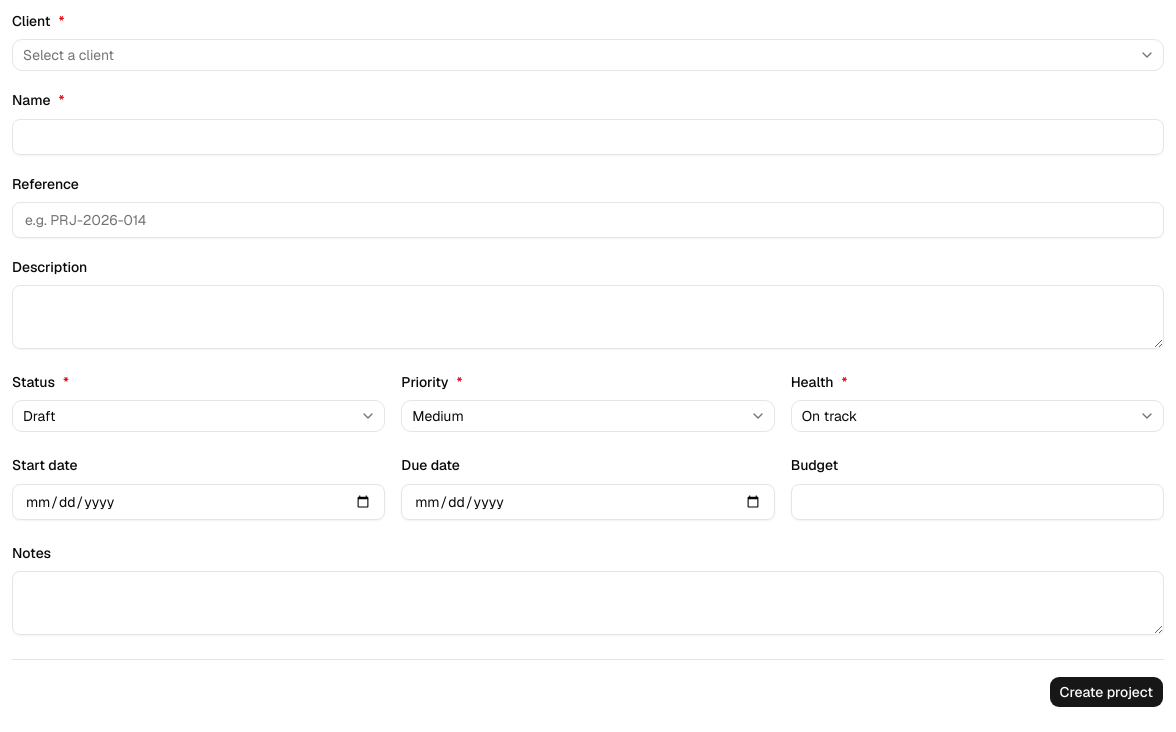
Test: ProjectForm (create mode) › maps 422 backend errors onto fields
This screenshot has width=1176, height=732.
Step 1. Click the dropdown labelled "Select a client ▼" → (68,55), box [12,39,1164,71]
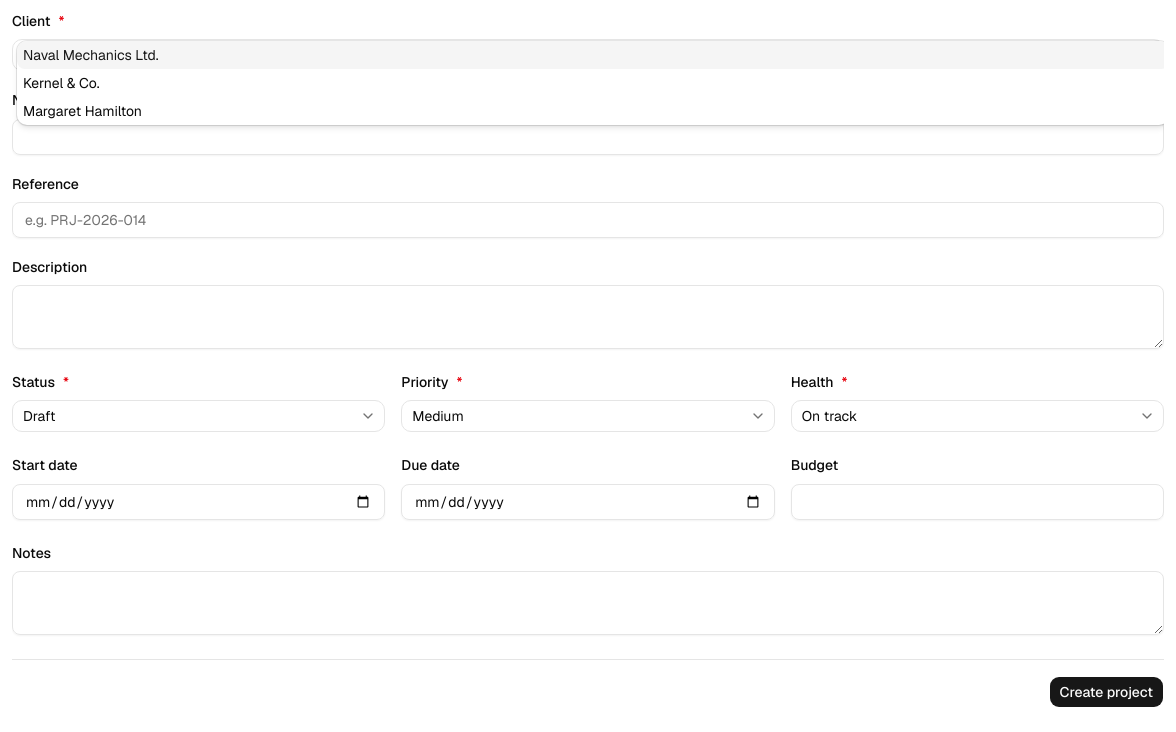
Step 2. Click the option "Naval Mechanics Ltd." → (91,55), box [17,41,1164,69]
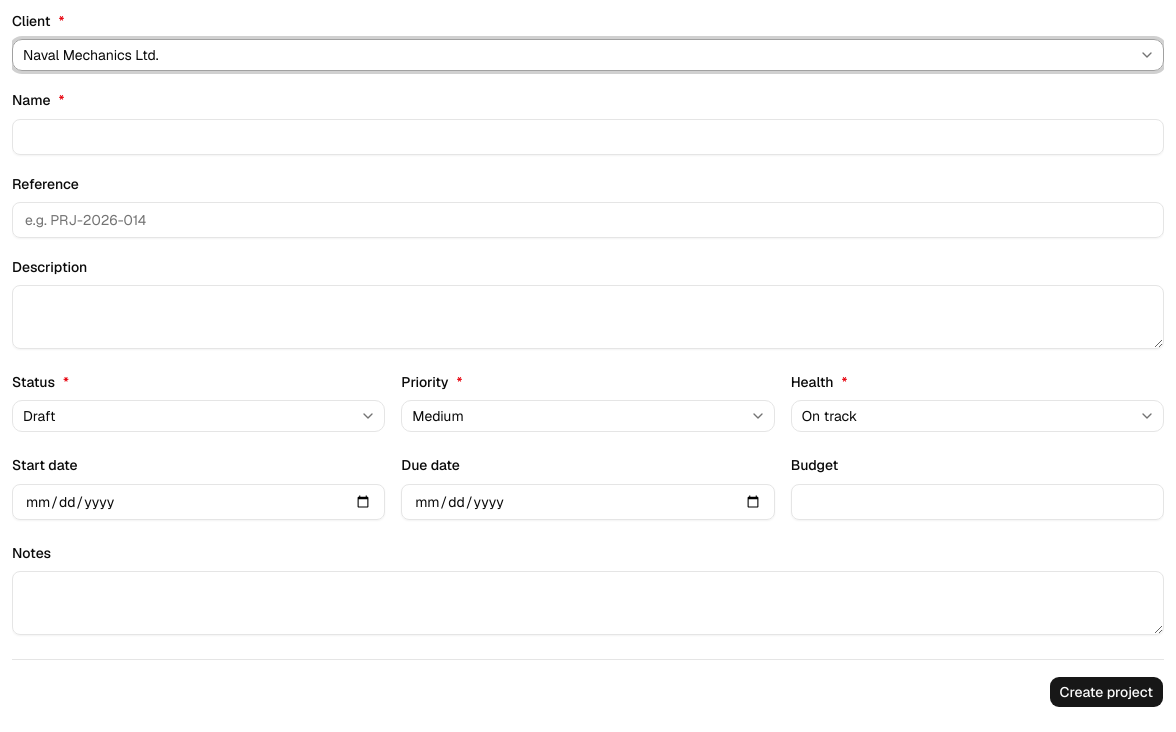
Step 3. Type "Conflict" into the field labelled "Name *" → (588,136), box [12,118,1164,154]
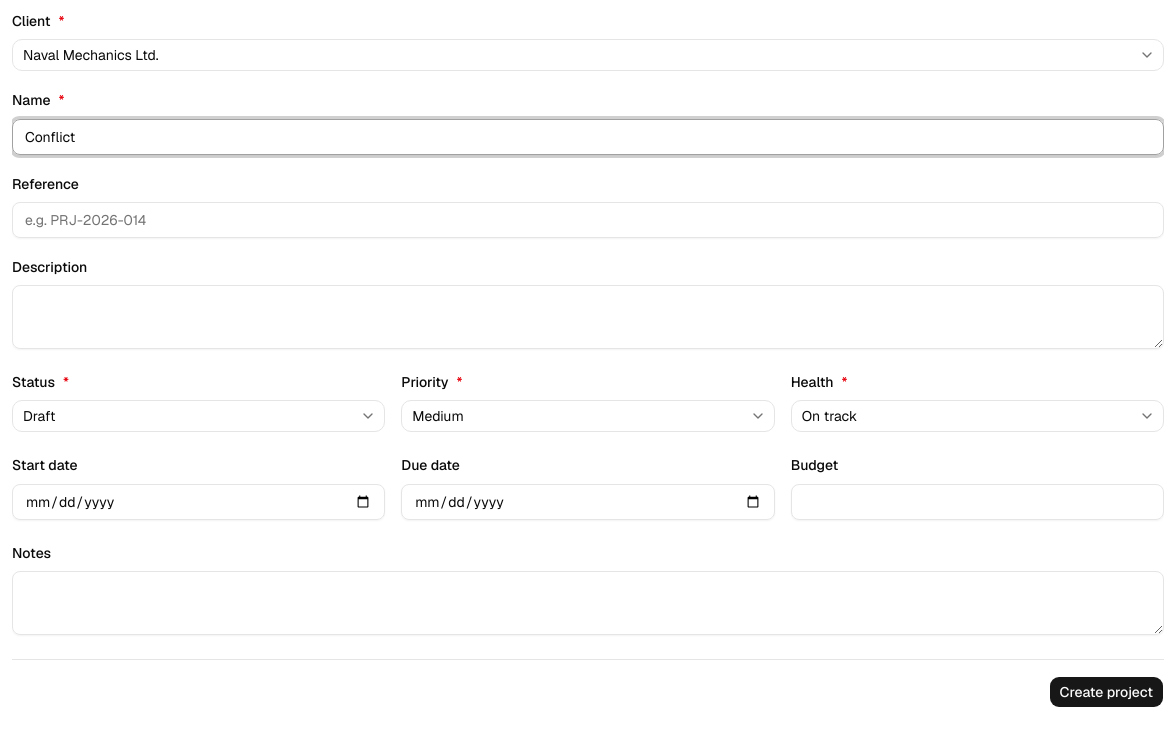
Step 4. Click the button "Create project" → (1106,692), box [1049,676,1164,708]
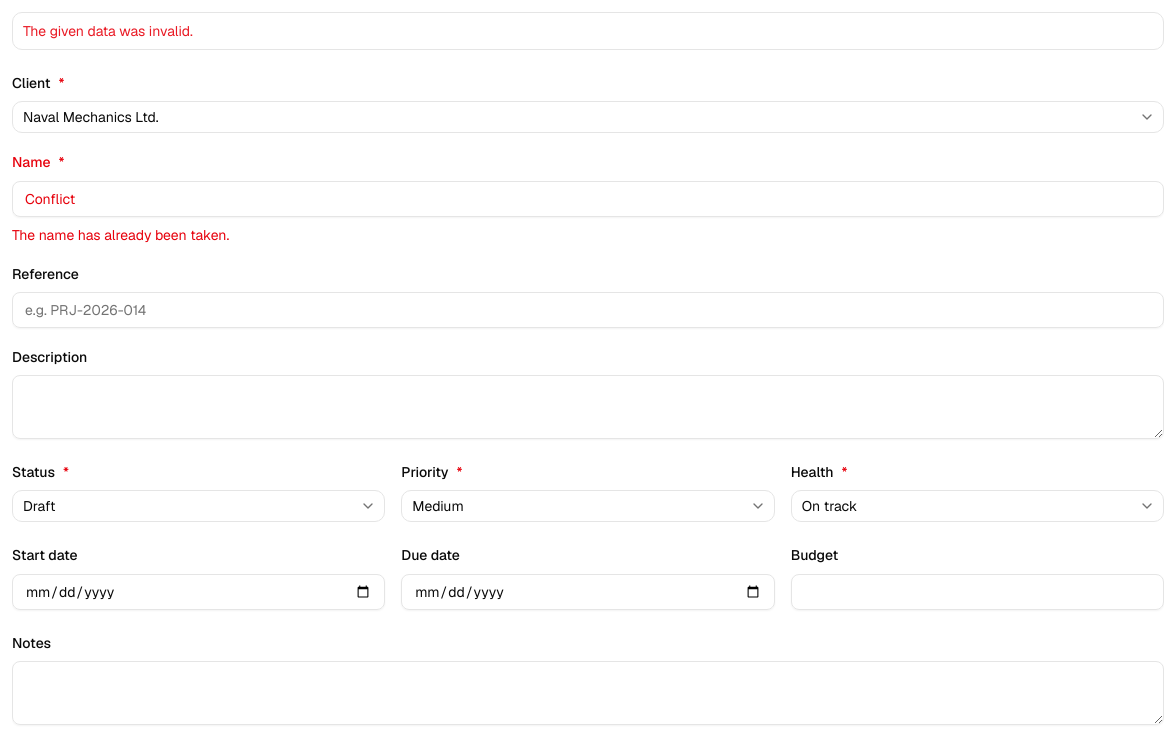
Result: the text "The name has already been taken." is shown at [12,226,229,244]
